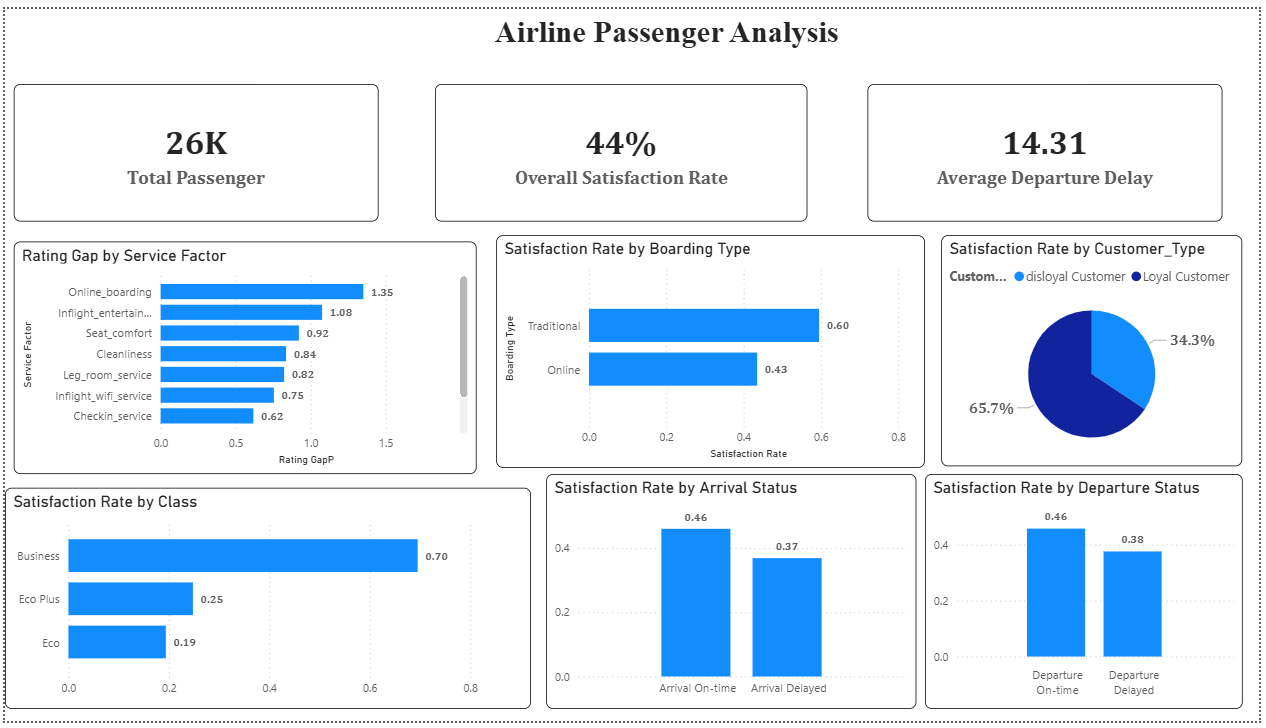

What the dashboard file says about the page in this screenshot:
{"tool":"powerbi","page":{"name":"Page 1","canvas":[1320,750],"ordinal":0},"visuals":[{"type":"card","fields":{"Values":["airline airline.Total Passenger"]},"box":[9.2,78.9,384.2,144.7],"z":0},{"type":"card","fields":{"Values":["airline airline.Overall Satisfaction Rate"]},"box":[452.6,78.9,392.1,144.7],"z":2000},{"type":"card","fields":{"Values":["airline airline.Average Departure Delay"]},"box":[907.9,78.9,373.7,144.7],"z":3000},{"type":"clusteredBarChart","title":"Rating Gap by Service Factor","fields":{"Y":["dupllicate_airline.Rating GapP"],"Category":["dupllicate_airline.Service Factor"]},"box":[9.2,244.7,486.8,244.7],"z":4000},{"type":"pieChart","fields":{"Y":["airline airline.Satisfaction Rate"],"Series":["airline airline.Customer_Type"]},"box":[985.5,238.2,317.1,243.4],"z":5000},{"type":"clusteredBarChart","fields":{"Y":["airline airline.Satisfaction Rate"],"Category":["airline airline.Class"]},"box":[0,503.9,553.9,232.9],"z":6000},{"type":"columnChart","fields":{"Category":["airline airline.Arrival Status"],"Y":["airline airline.Satisfaction Rate"]},"box":[569.7,489.5,389.5,247.4],"z":7000},{"type":"columnChart","fields":{"Y":["airline airline.Satisfaction Rate"],"Category":["airline airline.Departure Status"]},"box":[968.4,489.5,334.2,247.4],"z":8000},{"type":"clusteredBarChart","fields":{"Y":["airline airline.Satisfaction Rate"],"Category":["airline airline.Boarding Type"]},"box":[517.1,238.2,451.3,244.7],"z":9000},{"type":"textbox","box":[265.8,0,869.7,78.9],"z":10000}]}

Visuals, with their boxes in screenshot pixels (x1, y1, x2, y2), scaled from the page's 1320x750 canvas onto the 1266x728 screenshot:
card - airline airline.Total Passenger: box=[9, 77, 377, 217]
card - airline airline.Overall Satisfaction Rate: box=[434, 77, 810, 217]
card - airline airline.Average Departure Delay: box=[871, 77, 1229, 217]
"Rating Gap by Service Factor" clusteredBarChart: box=[9, 238, 476, 475]
pieChart - airline airline.Satisfaction Rate x airline airline.Customer_Type: box=[945, 231, 1249, 467]
clusteredBarChart - airline airline.Satisfaction Rate x airline airline.Class: box=[0, 489, 531, 715]
columnChart - airline airline.Arrival Status x airline airline.Satisfaction Rate: box=[546, 475, 920, 715]
columnChart - airline airline.Satisfaction Rate x airline airline.Departure Status: box=[929, 475, 1249, 715]
clusteredBarChart - airline airline.Satisfaction Rate x airline airline.Boarding Type: box=[496, 231, 929, 469]
textbox: box=[255, 0, 1089, 77]
